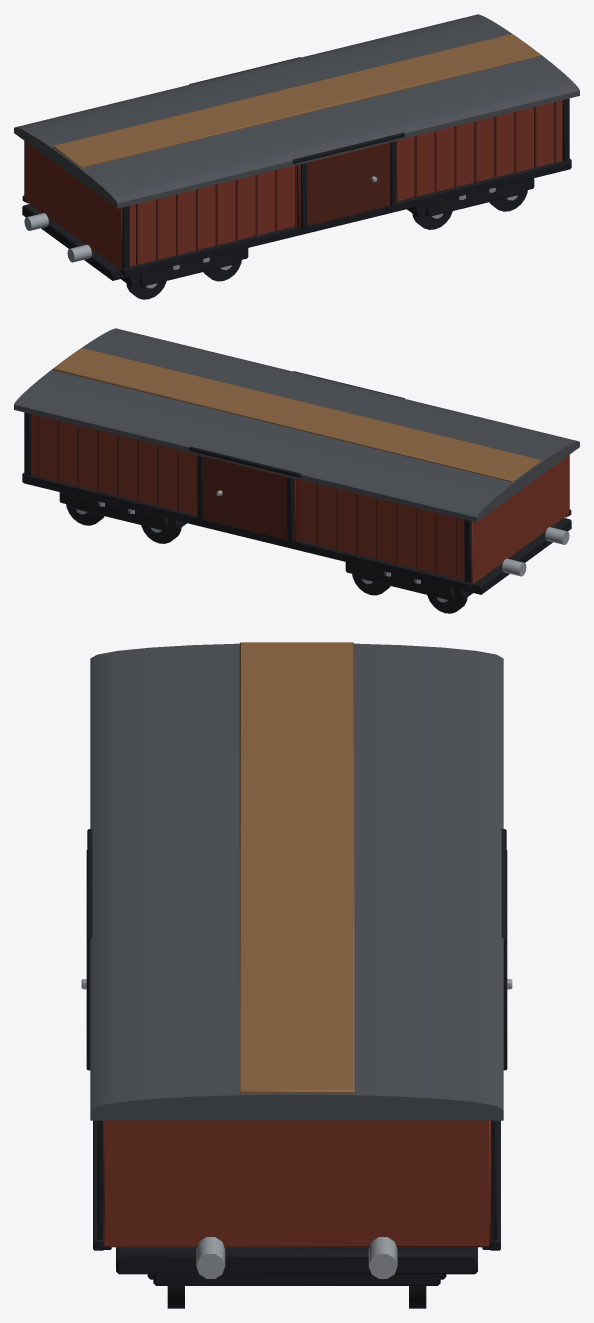
File: furgon.glb
3 views of the same model, one above another, from view 1: azimuth 30°, elevation 25°; view 2: azimuth 150°, elevation 25°; view 3: azimuth 270°, elevation 25° (orthographic). The views are drawn at different scales.
Visible parts, largest first — view 1: furgon; view 2: furgon; view 3: furgon.
Boxes of the visible parts, bbox=[...] form: furgon: bbox=[14, 14, 579, 299]; furgon: bbox=[14, 328, 579, 613]; furgon: bbox=[81, 642, 512, 1308].
Size of the model in its own units: 3.98 by 1.01 by 1.5.
